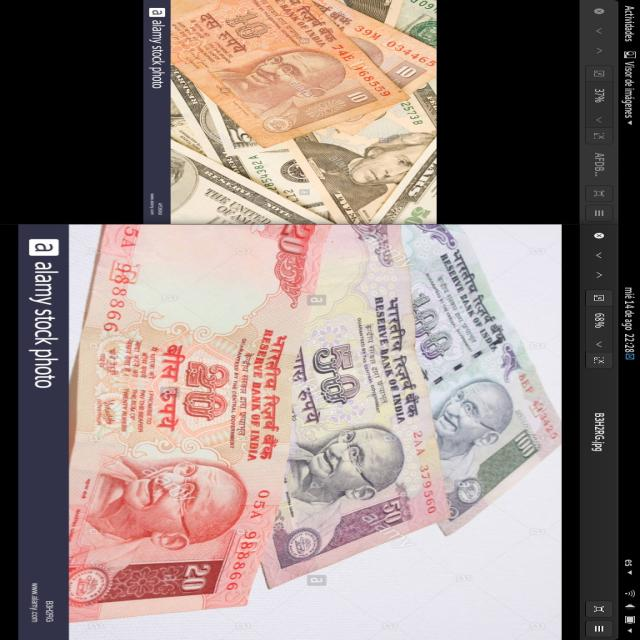20IndianRupees: (67, 223, 327, 609)
